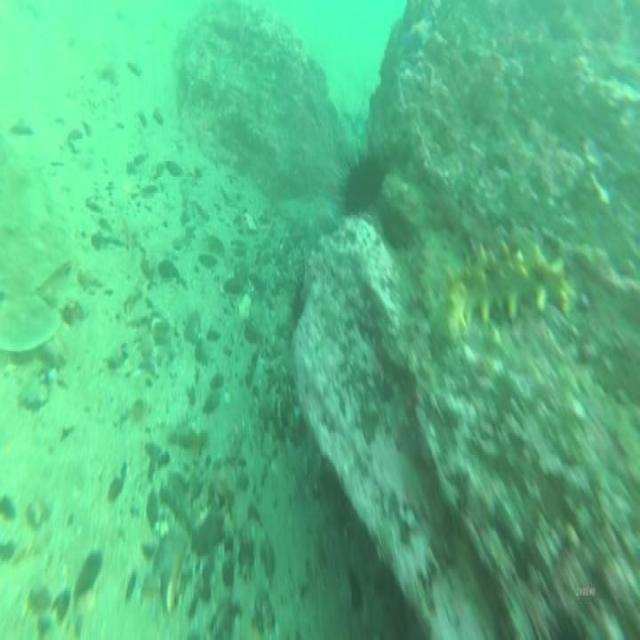echinus: (346, 158, 383, 212), (382, 206, 414, 254)
holothurian: (443, 242, 572, 335)
starfish: (305, 196, 339, 242)
